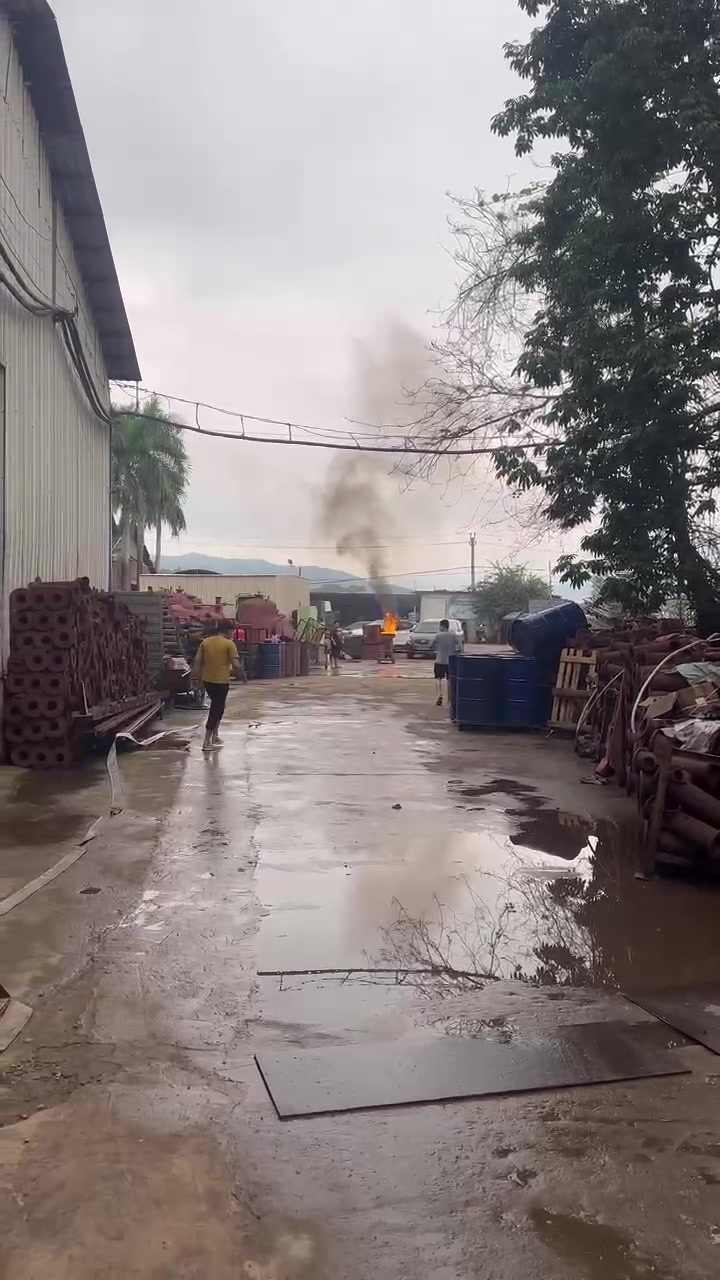fire: (381, 613, 396, 633)
